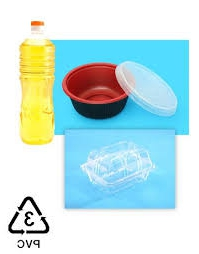plastic water bottle: (16, 14, 58, 147)
